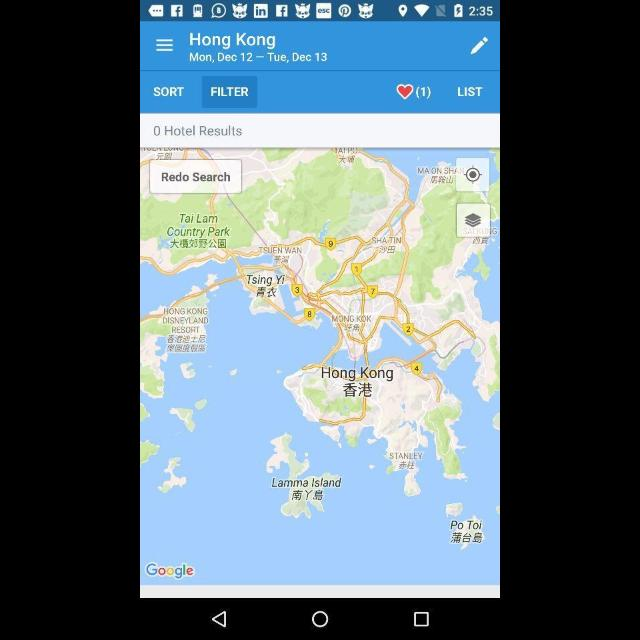icon: (396, 84, 432, 100), (462, 164, 482, 186), (469, 36, 489, 56), (210, 610, 228, 628), (311, 610, 329, 628), (412, 611, 430, 627), (156, 38, 174, 52)
map: (141, 150, 499, 584)
panel: (142, 600, 498, 638)
text: (187, 32, 329, 64), (153, 124, 244, 138)
textbutton: (202, 76, 258, 106), (154, 86, 186, 98), (457, 86, 483, 98)
toolbar: (140, 20, 500, 70)
uppertaskbar: (141, 2, 499, 20)
